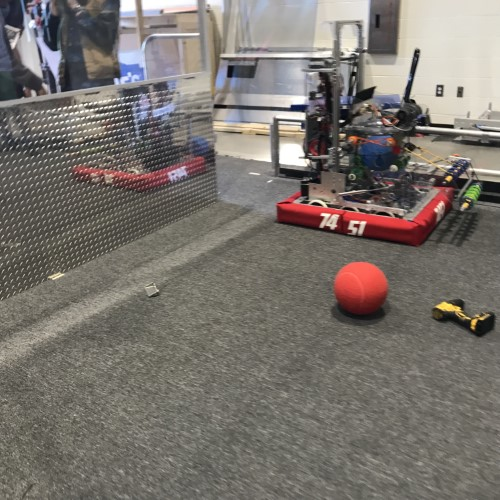blue: (358, 132, 399, 173)
red: (330, 258, 393, 319)
